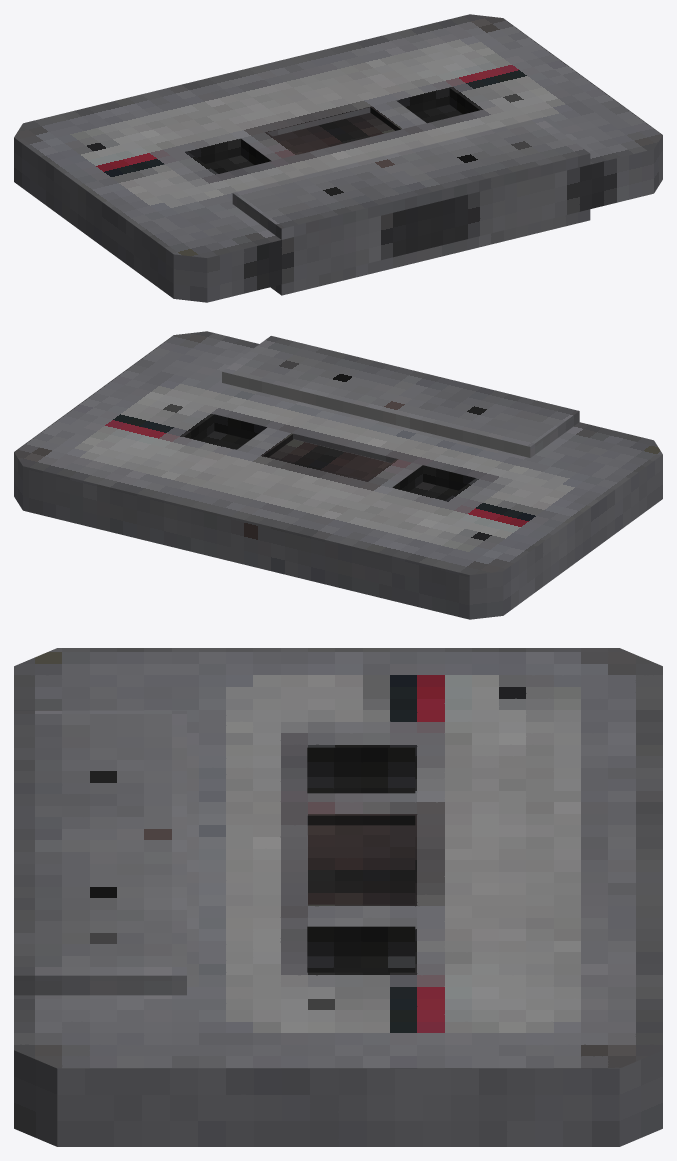
Rendered from cassette_tape_mp_1.glb.
3 views of the same model, one above another, from view 1: azimuth 30°, elevation 25°; view 2: azimuth 150°, elevation 25°; view 3: azimuth 270°, elevation 25° (orthographic). The views are drawn at different scales.
Parts seen in each view (by area): view 1: cassette_tape_mp_1; view 2: cassette_tape_mp_1; view 3: cassette_tape_mp_1.
Boxes of the visible parts, x1=… form: cassette_tape_mp_1: x1=14, y1=14, x2=662, y2=302; cassette_tape_mp_1: x1=14, y1=331, x2=662, y2=619; cassette_tape_mp_1: x1=14, y1=648, x2=662, y2=1146.
Size of the model in its own units: 0.1656 by 0.0216 by 0.108.
Materials: 1 (1 with a texture image).
